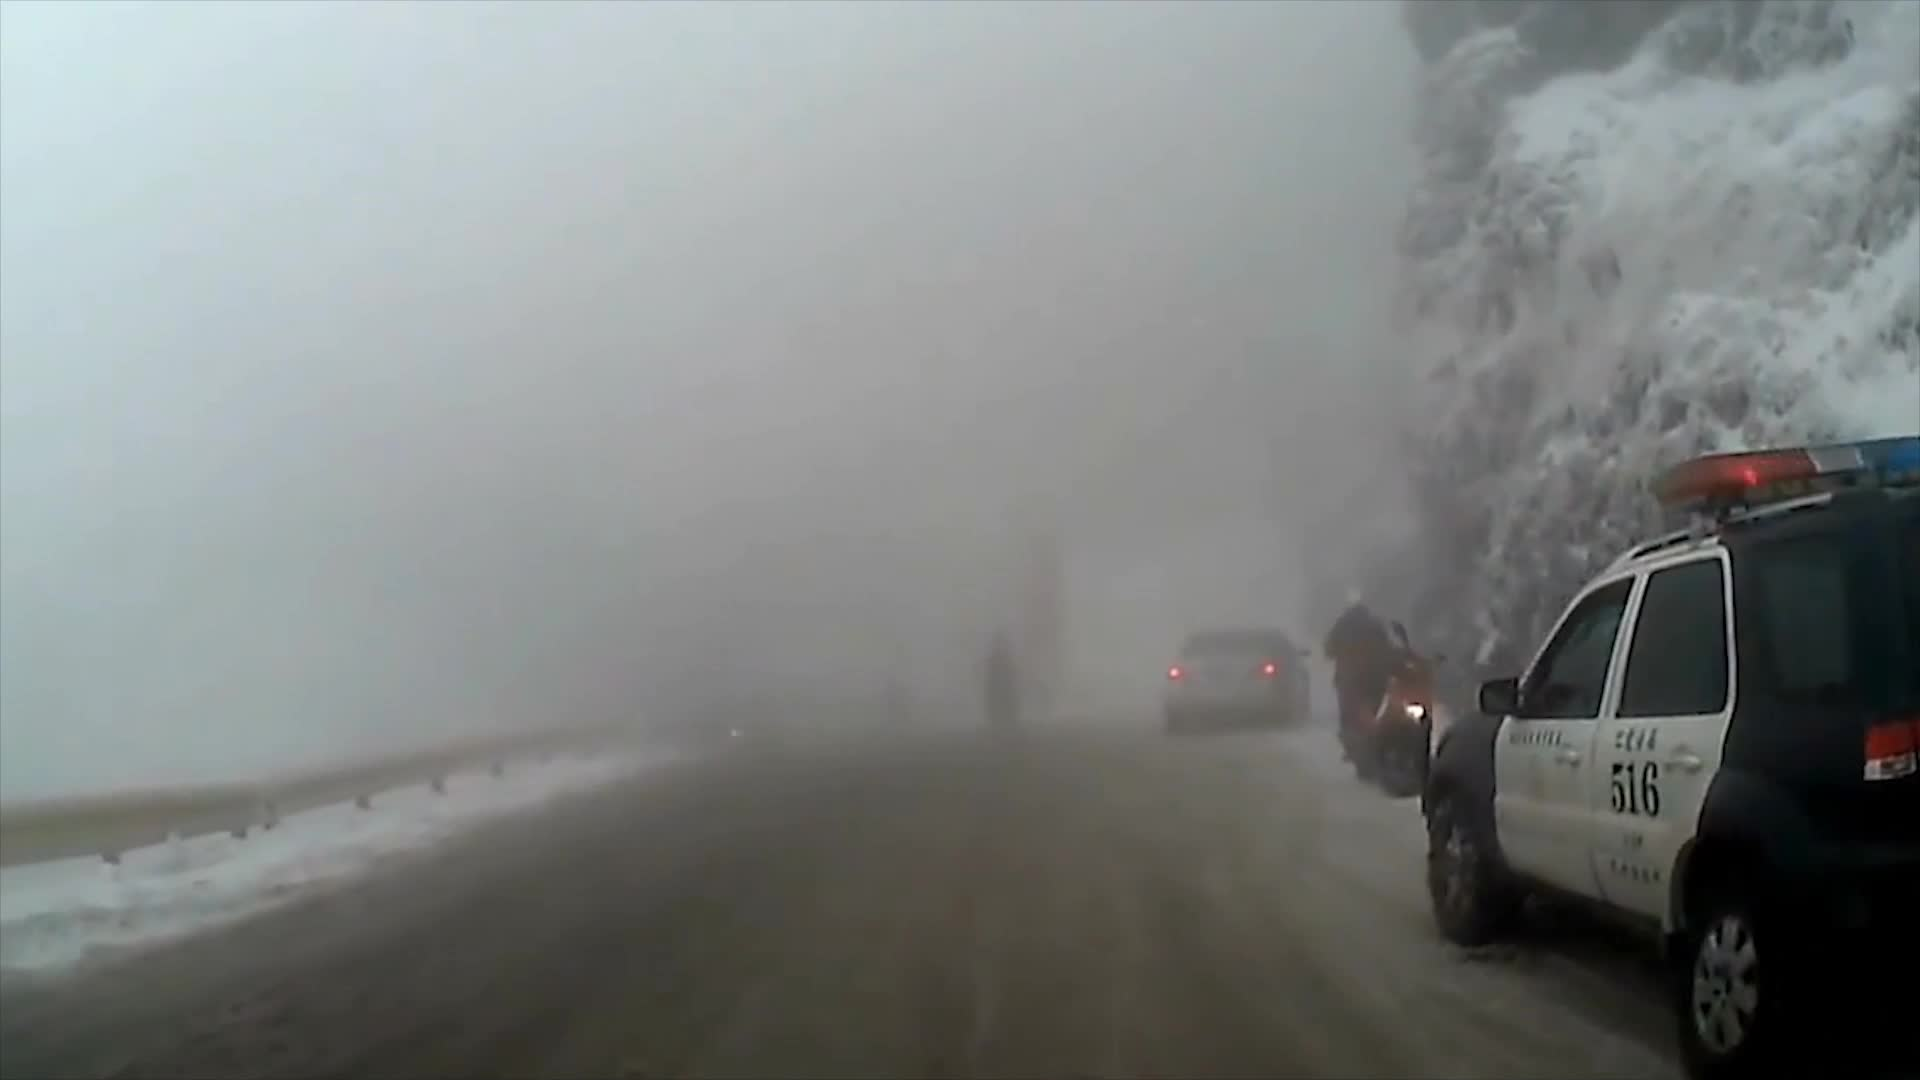pedestrian: (1328, 588, 1403, 757), (985, 627, 1024, 740)
vehicle: (1414, 437, 1918, 1080), (1161, 626, 1312, 738)
